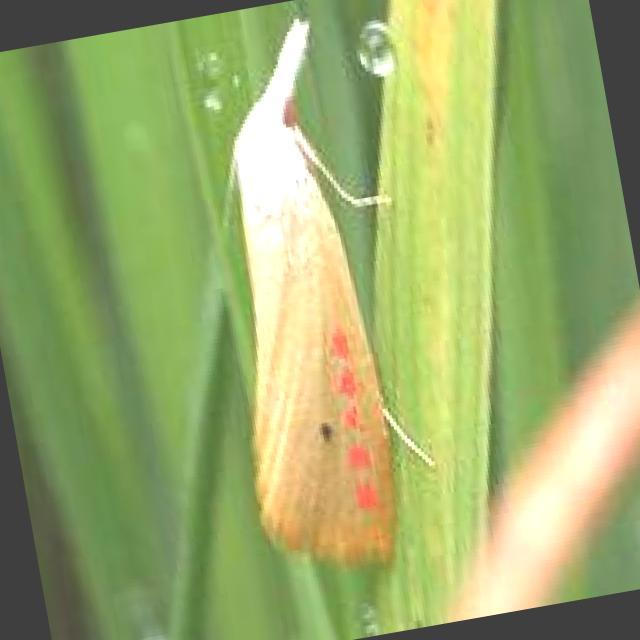stem borer: (233, 21, 433, 563)
